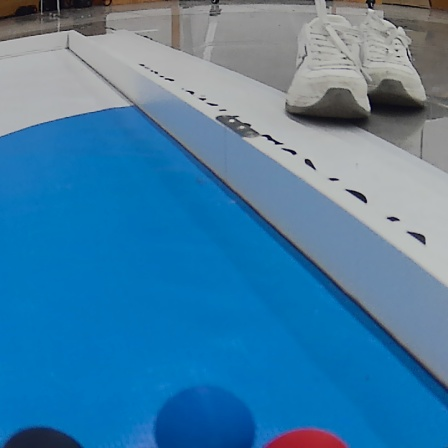black: (7, 424, 82, 448)
blue: (154, 384, 256, 448)
blue_base: (1, 102, 448, 448)
red: (262, 427, 349, 448)
